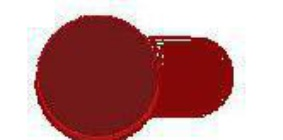Switch: (1, 1, 282, 139)
